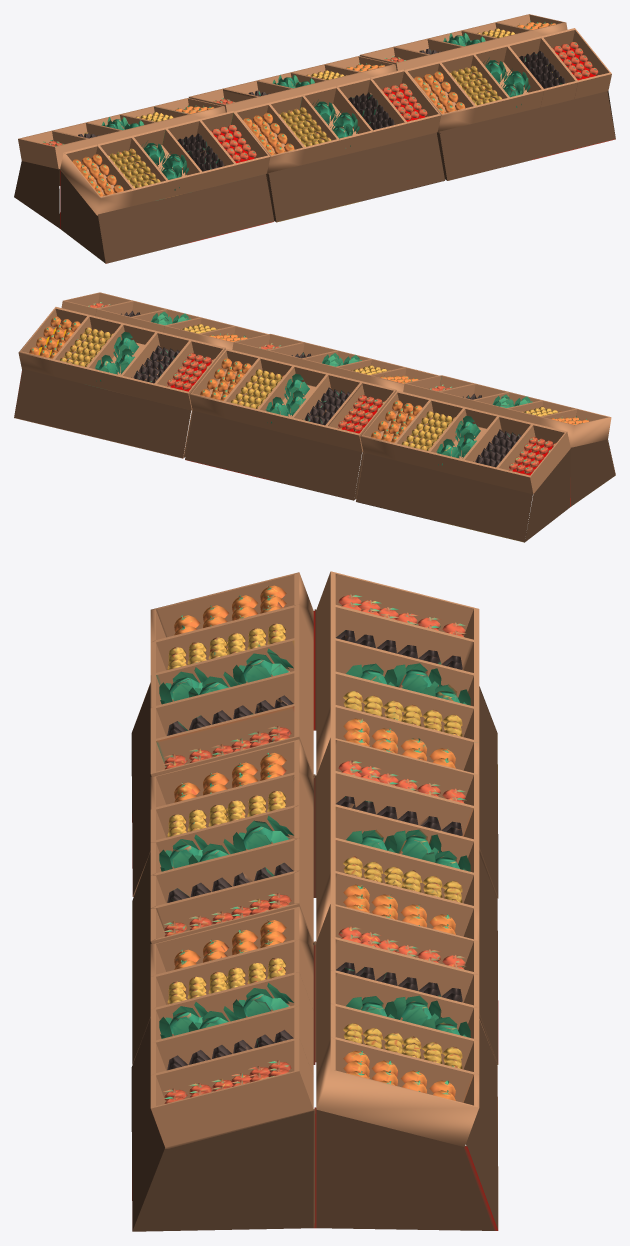
File: ZonaFrutas5x2 1.fbx
3 views of the same model, one above another, from view 1: azimuth 30°, elevation 25°; view 2: azimuth 150°, elevation 25°; view 3: azimuth 270°, elevation 25° (orthographic). The views are drawn at different scales.
Visible parts, largest first — view 1: EstanteFruta.001; view 2: EstanteFruta.001; view 3: EstanteFruta.001.
Part boxes in pixels (left/top/right/bottom): EstanteFruta.001: left=14, top=14, right=615, bottom=263; EstanteFruta.001: left=14, top=292, right=615, bottom=542; EstanteFruta.001: left=131, top=571, right=498, bottom=1231.
Size of the model in its own units: 995 by 152 by 309.
1 material, 1 textured.
